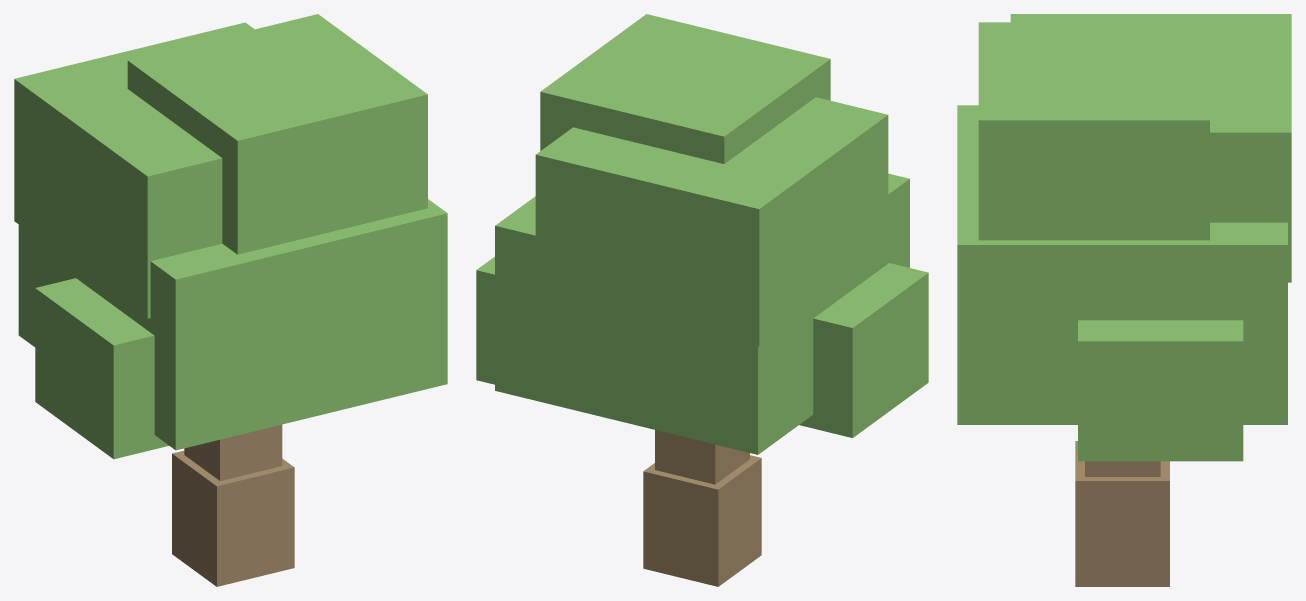
Rendered from propvar_oak_m.glb.
3 views of the same model, side by side, from view 1: azimuth 30°, elevation 25°; view 2: azimuth 150°, elevation 25°; view 3: azimuth 270°, elevation 25° (orthographic). The views are drawn at different scales.
Visible parts, largest first — view 1: PropVar_Oak_M; view 2: PropVar_Oak_M; view 3: PropVar_Oak_M.
Part boxes in pixels (x1,y1,x2,y2): PropVar_Oak_M: [14, 14, 447, 586]; PropVar_Oak_M: [476, 14, 928, 586]; PropVar_Oak_M: [957, 14, 1291, 586].
Bounding box in the file's own units: 4.55 × 5.97 × 3.54.
